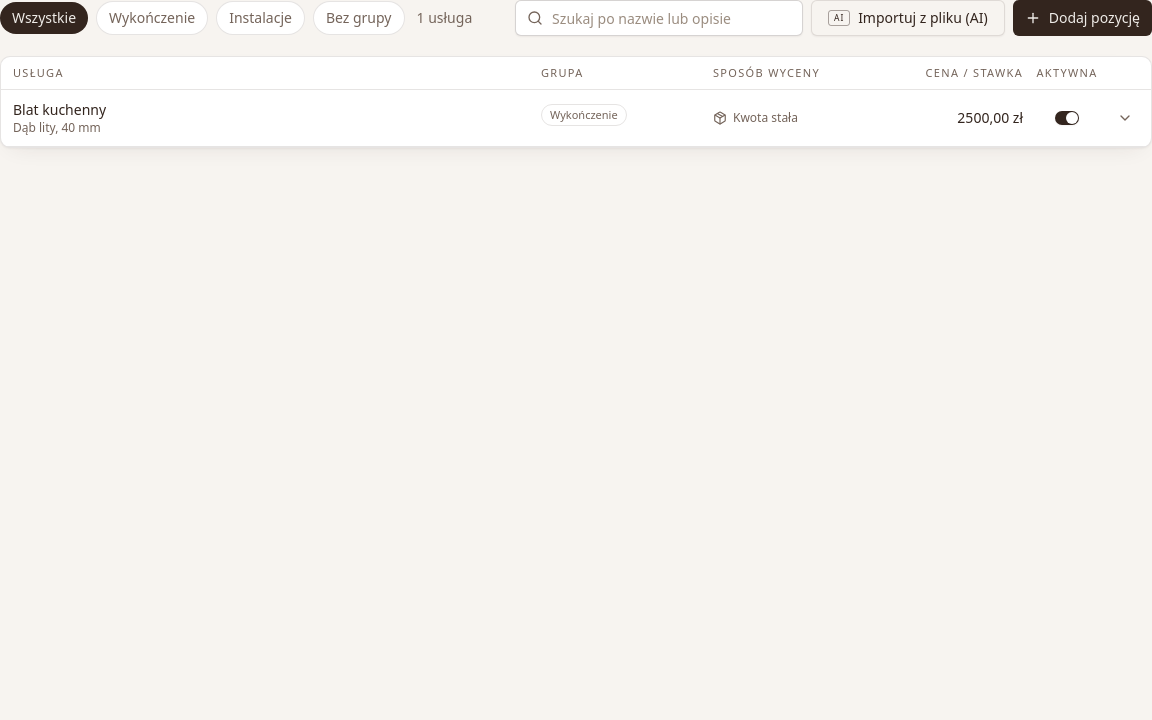
Test case: LibraryItemsTab — kaskada do otwartej wyceny › odmowa zostawia zmiane w bibliotece i NIE rusza wyceny
Click the button with aria-label "Rozwiń: Blat kuchenny": point(60, 109) x1=13 y1=100 x2=1023 y2=136
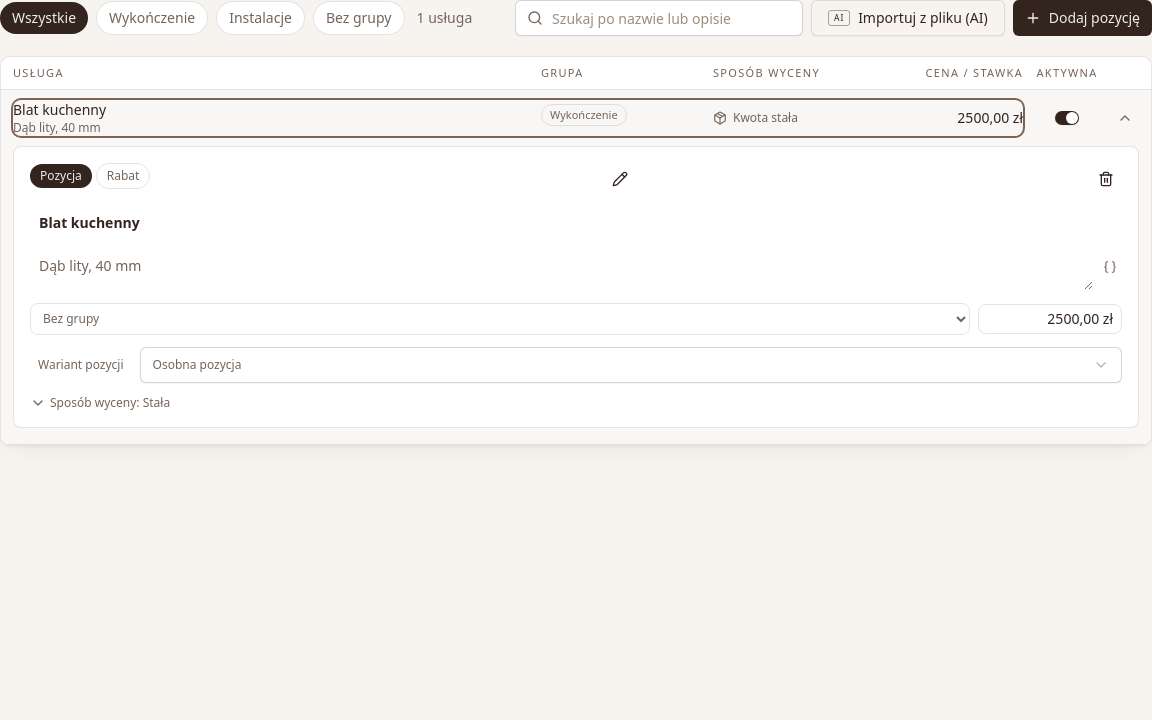
Replace the text in the field named "Nazwa pozycji: Blat kuchenny" with "Blat dębowy": point(576, 223) x1=30 y1=207 x2=1122 y2=239
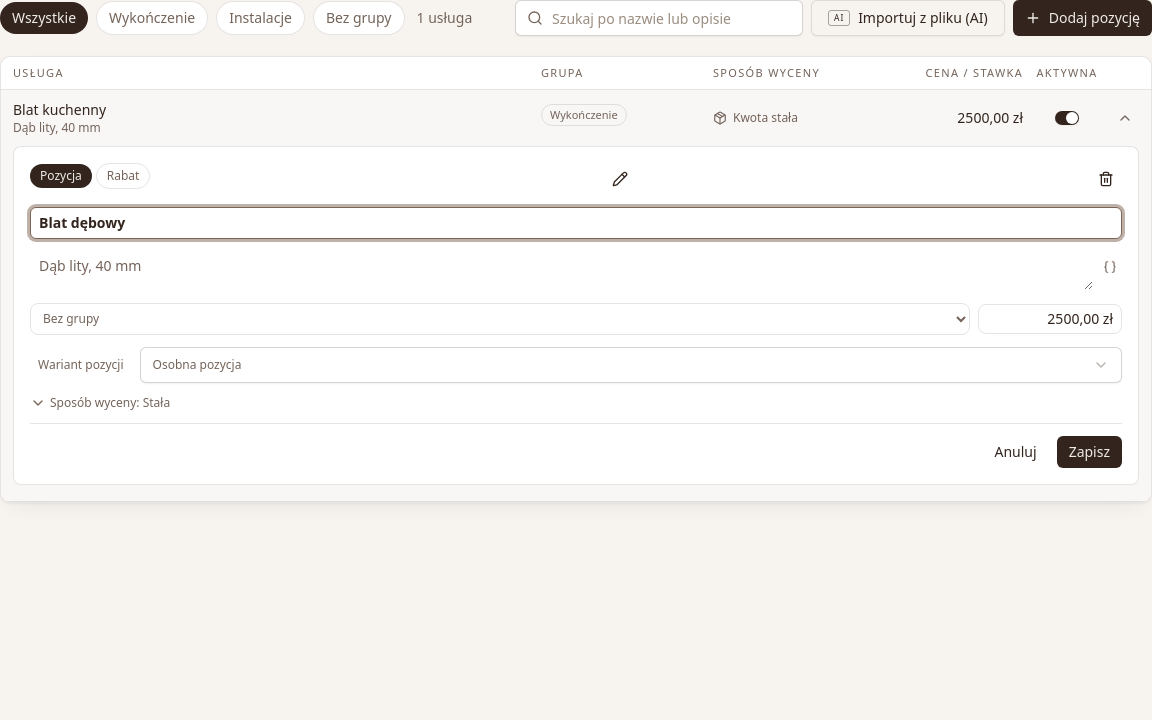
Click the button "Zapisz": point(1089, 452) x1=1057 y1=436 x2=1122 y2=468
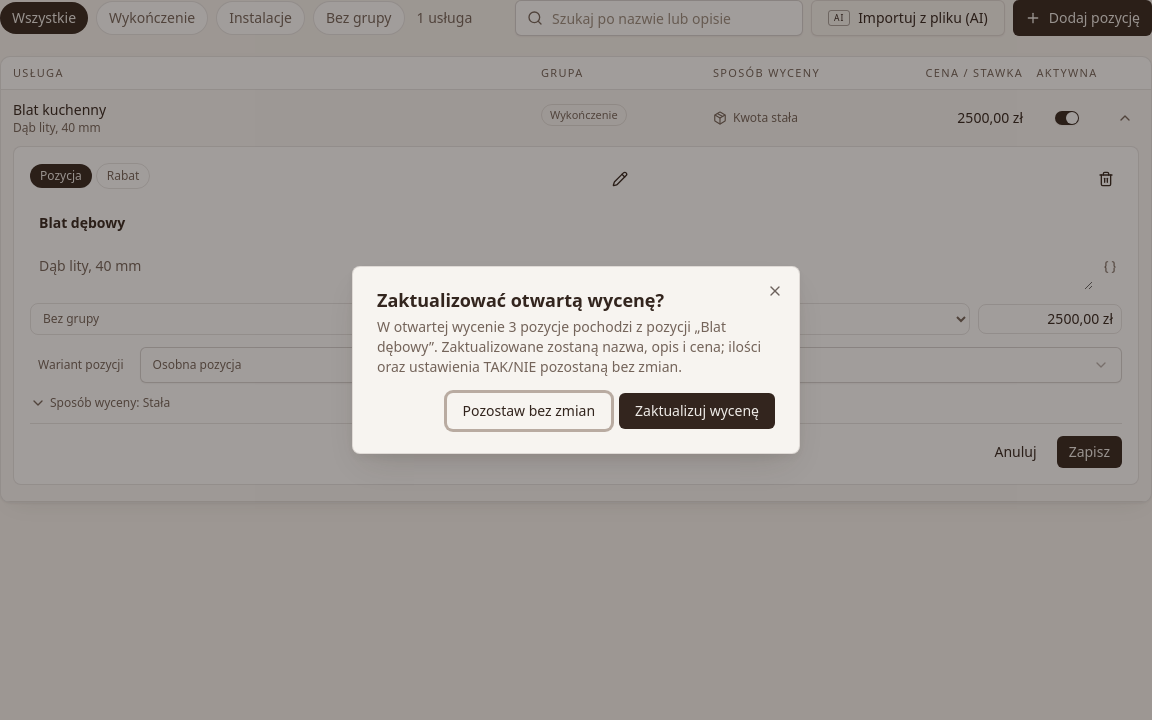
Click the button "Pozostaw bez zmian": point(529, 411) x1=447 y1=393 x2=611 y2=429
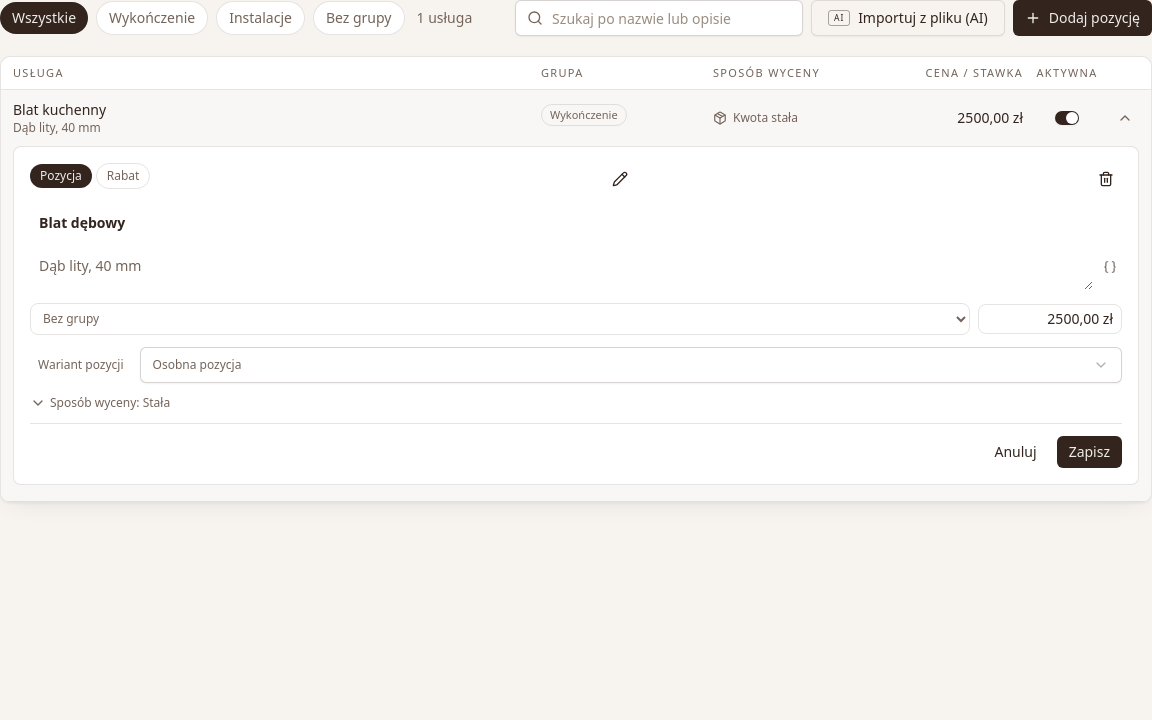
Expected: the heading "Zaktualizować otwartą wycenę?" is gone
